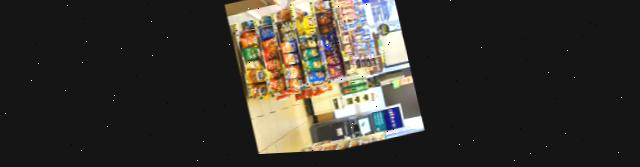background: (223, 0, 423, 158)
